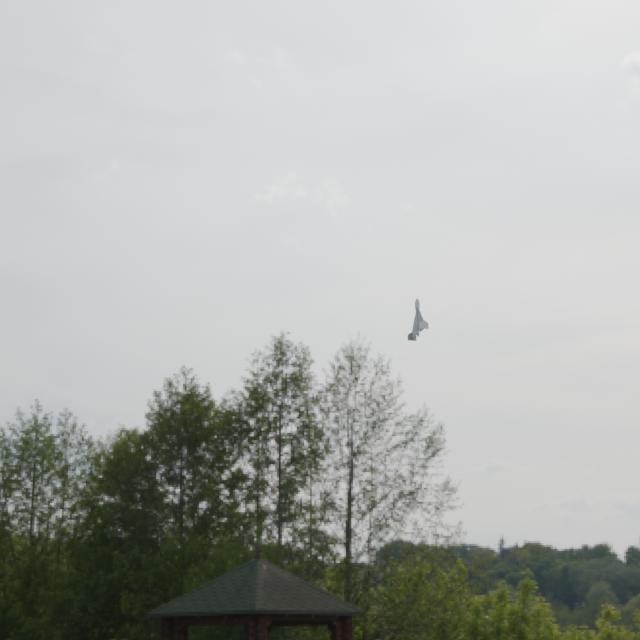Airaplan: (408, 298, 429, 341)
